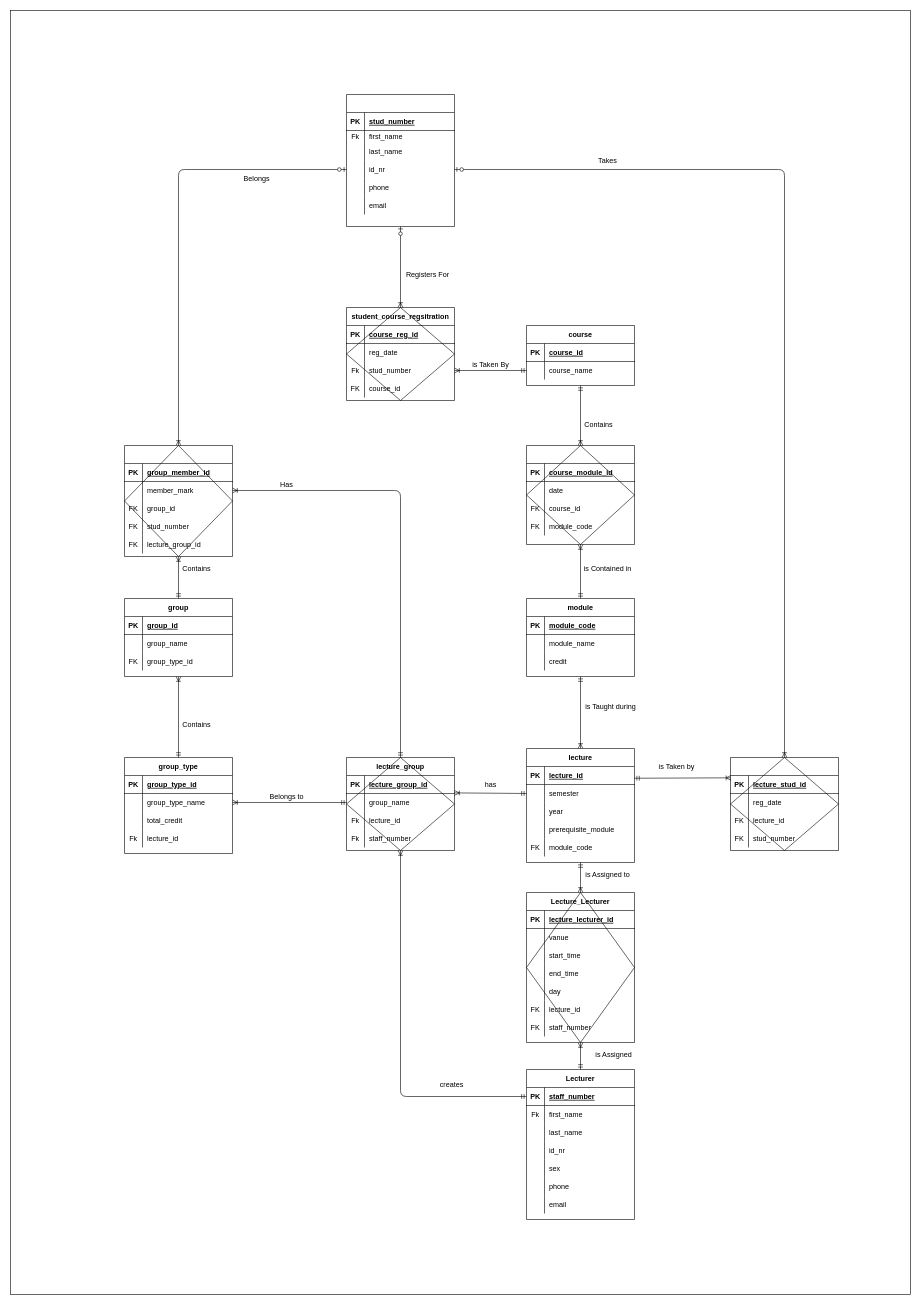
Some shapes in this 921 by 1305 pixel diagram are drawn without their labels. Here are the shapes that lost their labels. From the top down, the box of each, then its label:
(346, 94, 454, 226): student
(124, 445, 232, 556): group_member
(526, 445, 634, 544): course_module
(730, 757, 838, 850): lecture_student
